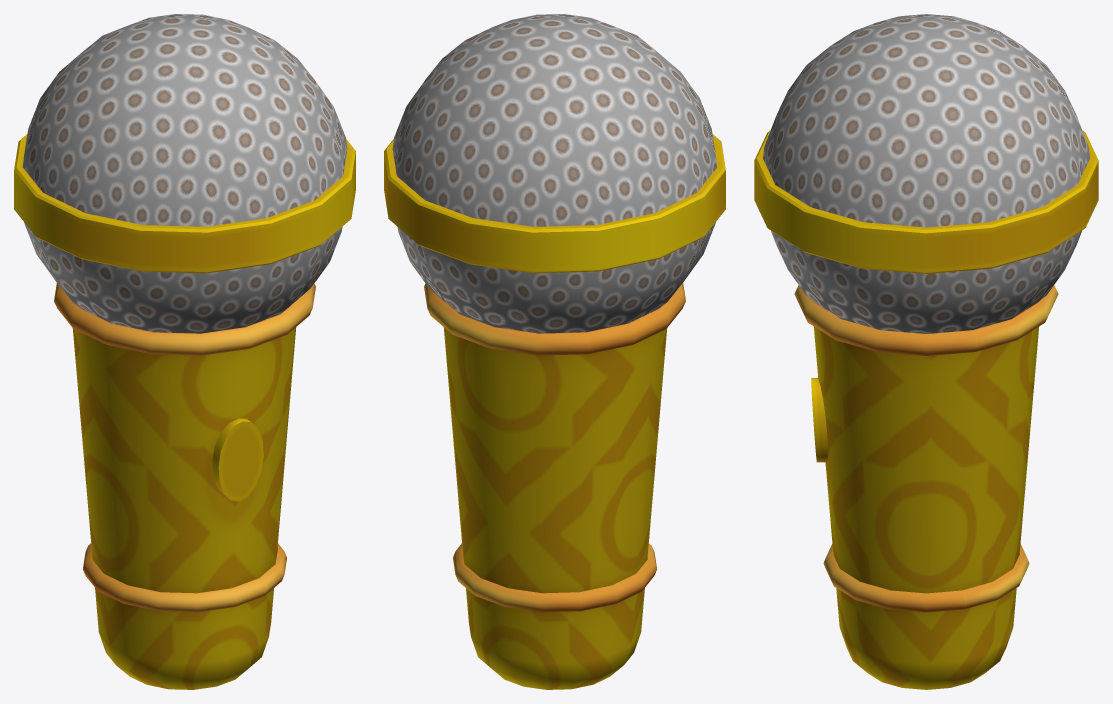
File: mike_yellow.fbx
3 views of the same model, side by side, from view 1: azimuth 30°, elevation 25°; view 2: azimuth 150°, elevation 25°; view 3: azimuth 270°, elevation 25° (orthographic).
Parts seen in each view (by area): view 1: mike_yellow; view 2: mike_yellow; view 3: mike_yellow.
Boxes of the visible parts, x1,y1,x2,y2 form: mike_yellow: (14, 14, 355, 689); mike_yellow: (384, 14, 725, 689); mike_yellow: (754, 14, 1098, 689).
Size of the model in its own units: 0.3866 by 0.7913 by 0.3866.
